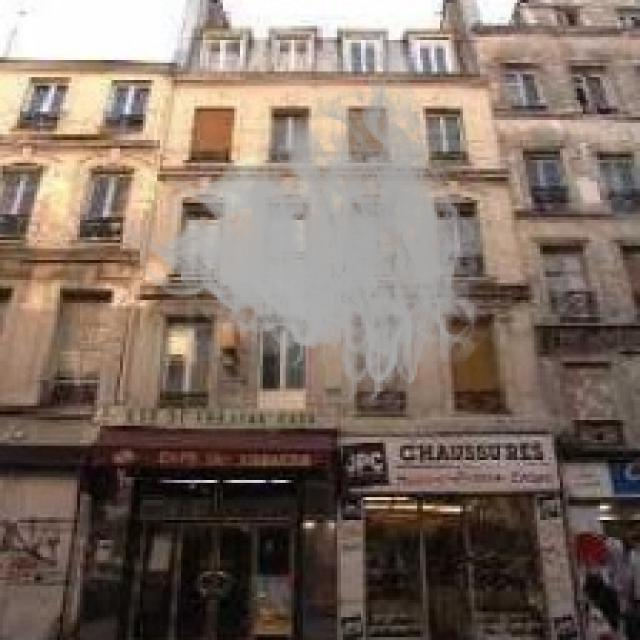Smoke: (128, 42, 500, 418)
